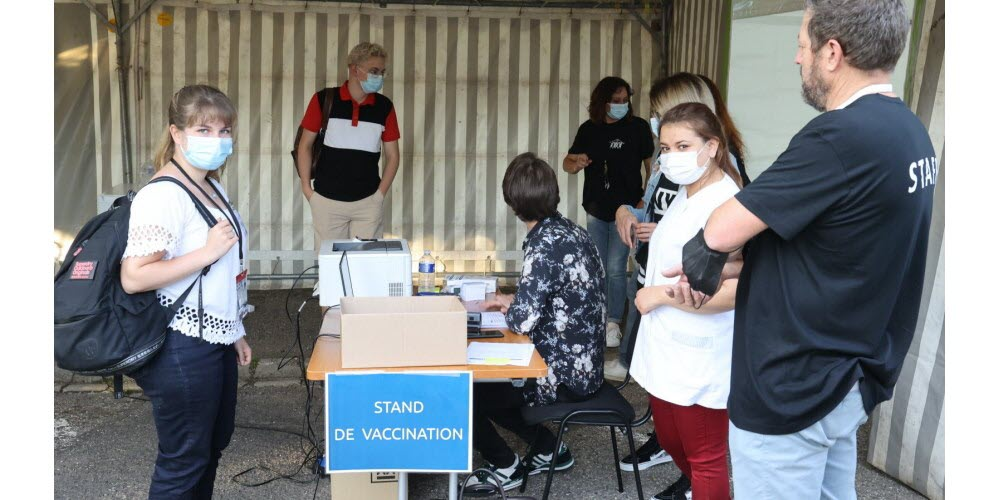with_mask: (170, 103, 236, 181), (652, 137, 705, 185), (357, 63, 390, 100), (608, 93, 631, 122)
without_mask: (787, 18, 846, 112)
